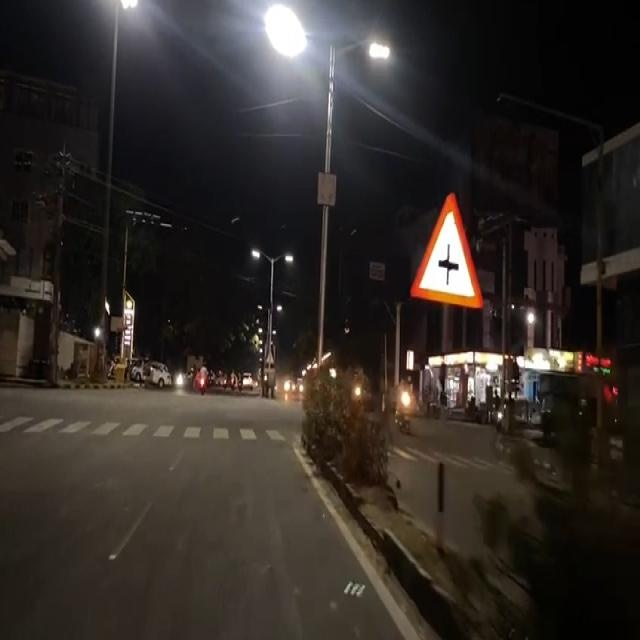bien_nguy_hiem: (407, 187, 488, 318)
